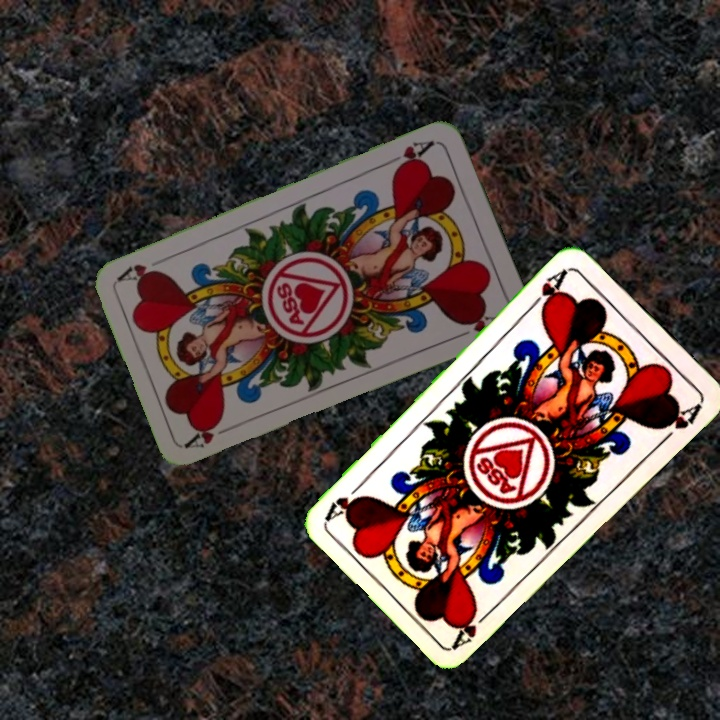HA: (525, 264, 572, 315), (450, 603, 497, 650), (382, 136, 439, 174), (183, 414, 240, 451)
